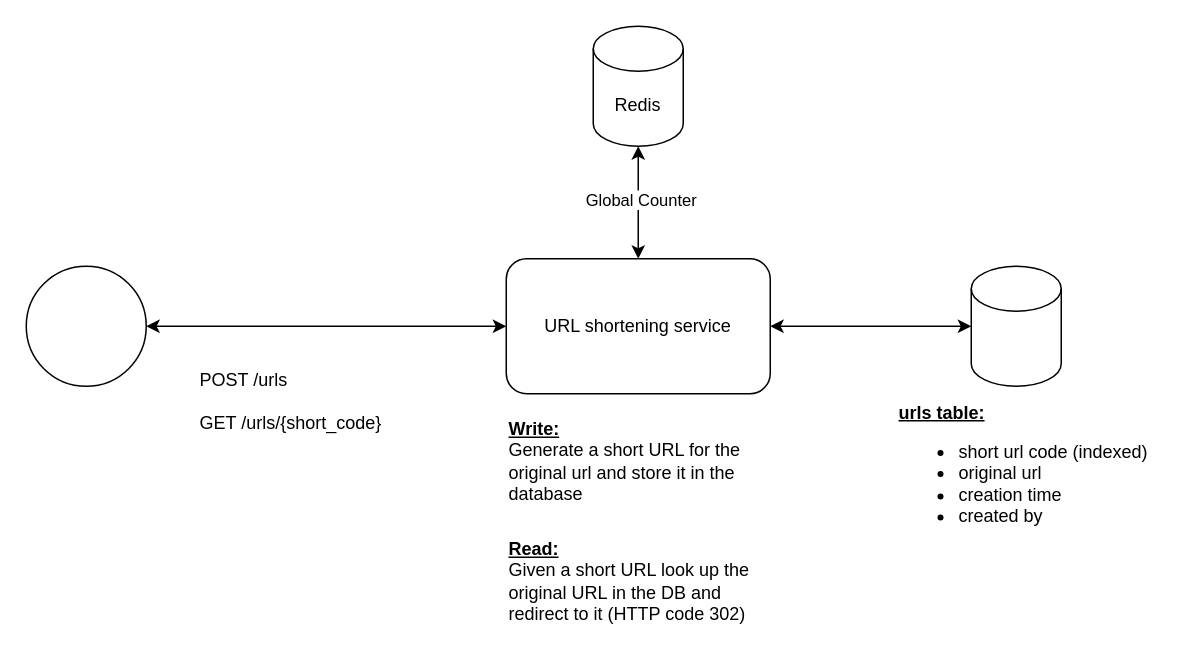
The diagram is 1193 pixels wide and 653 high, and some of its shapes have lost their labels. Here are the shapes that lost their labels. From the top down, the box of each, then its label:
(25, 265, 146, 386): User
(970, 265, 1061, 386): DB
